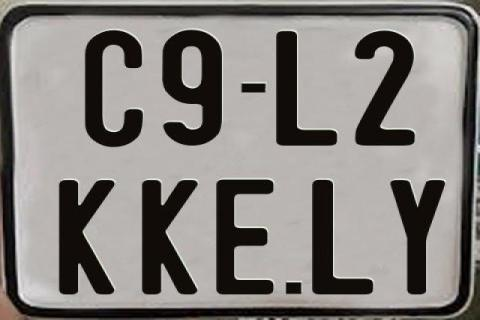0: (354, 28, 418, 146), (162, 29, 224, 149)
C: (84, 29, 145, 145)
E: (216, 177, 275, 295)
K: (59, 180, 120, 298), (141, 179, 202, 293)
L: (273, 31, 340, 146), (311, 180, 377, 296)
Y: (390, 179, 451, 295)
